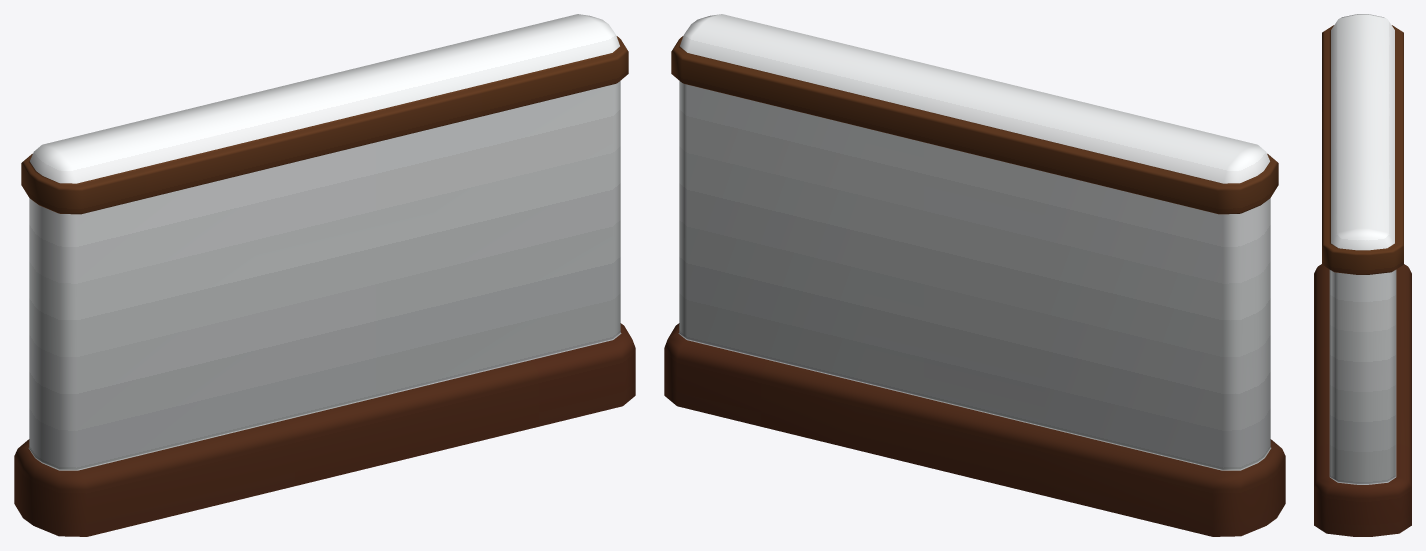
File: Env1_Wall_Orange.fbx
3 renders of one model, left to right at view 1: azimuth 30°, elevation 25°; view 2: azimuth 150°, elevation 25°; view 3: azimuth 270°, elevation 25°, orthographic. The views are drawn at different scales.
Visible parts, largest first — view 1: Env1_Wall; view 2: Env1_Wall; view 3: Env1_Wall.
Boxes of the visible parts, <box> form: Env1_Wall: <box>14,14,635,536</box>; Env1_Wall: <box>664,14,1285,536</box>; Env1_Wall: <box>1314,14,1411,536</box>.
Bounding box in the file's own units: 332 × 195 × 58.24.
